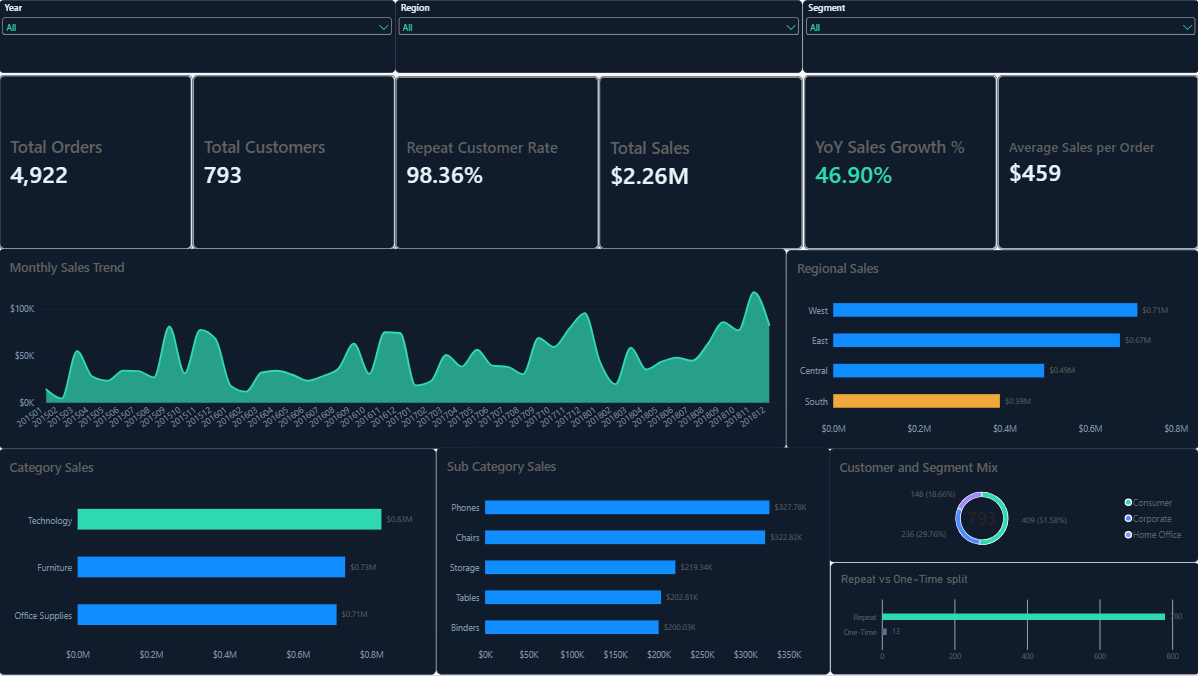

The dashboard page shown, as its layout file describes it:
{"tool":"powerbi","page":{"name":"Page 1","canvas":[1920,1080],"ordinal":0},"visuals":[{"type":"cardVisual","fields":{"Data":["Sales.Total Orders"]},"box":[0,119,309.5,279.2],"z":0},{"type":"cardVisual","fields":{"Data":["Sales.Total Customers"]},"box":[309.5,119,324.6,279.2],"z":1},{"type":"cardVisual","fields":{"Data":["Sales.Average Sales per Order"]},"box":[1597.1,119,322.5,279.2],"z":2},{"type":"cardVisual","fields":{"Data":["Sales.Repeat Customer Rate"]},"box":[634.1,121.2,326.8,277],"z":3},{"type":"cardVisual","fields":{"Data":["Sales.Total Sales"]},"box":[960.9,121.2,326.8,277],"z":4},{"type":"cardVisual","fields":{"Data":["Sales.YoY Sales Growth %"]},"box":[1287.7,119,309.5,279.2],"z":5},{"type":"lineChart","title":"Monthly Sales Trend","fields":{"Category":["DateTable.YearMonth"],"Y":["Sales.Total Sales"]},"box":[0,398.2,1259.5,320.3],"z":7},{"type":"clusteredBarChart","title":"Regional Sales","fields":{"Category":["Sales.Region"],"Y":["Sales.Total Sales"]},"box":[1259.5,400.4,660.1,318.1],"z":8},{"type":"slicer","title":"Year","fields":{"Values":["DateTable.Year"]},"box":[0,0,634.1,116.9],"z":9},{"type":"clusteredBarChart","title":"Category Sales","fields":{"Category":["Sales.Category"],"Y":["Sales.Total Sales"]},"box":[0,718.5,699,361.4],"z":10},{"type":"clusteredBarChart","title":"Sub Category Sales","fields":{"Category":["Sales.Sub-Category"],"Y":["Sales.Total Sales"]},"box":[699,716.3,629.8,363.6],"z":11},{"type":"donutChart","title":"Customer and Segment Mix","fields":{"Category":["Sales.Segment"],"Y":["Sales.Total Customers prev"]},"box":[1328.8,718.5,590.8,181.8],"z":12},{"type":"barChart","title":"Repeat vs One-Time split","fields":{"Category":["Sales.Customer Type"],"Y":["Count(Sales.Customer ID)"]},"box":[1329.2,900,590.8,180],"z":13},{"type":"slicer","title":"Year","fields":{"Values":["Sales.Region"]},"box":[634.1,0,651.4,116.9],"z":14},{"type":"slicer","title":"Year","fields":{"Values":["Sales.Segment"]},"box":[1285.5,0,634.1,116.9],"z":15}]}

Visuals, with their boxes in screenshot pixels (x1, y1, x2, y2), scaled from the page's 1920x1080 canvas onto the 1198x676 screenshot:
cardVisual - Sales.Total Orders: crop(0, 74, 193, 249)
cardVisual - Sales.Total Customers: crop(193, 74, 396, 249)
cardVisual - Sales.Average Sales per Order: crop(997, 74, 1197, 249)
cardVisual - Sales.Repeat Customer Rate: crop(396, 76, 600, 249)
cardVisual - Sales.Total Sales: crop(600, 76, 803, 249)
cardVisual - Sales.YoY Sales Growth %: crop(803, 74, 997, 249)
"Monthly Sales Trend" lineChart: crop(0, 249, 786, 450)
"Regional Sales" clusteredBarChart: crop(786, 251, 1197, 450)
"Year" slicer: crop(0, 0, 396, 73)
"Category Sales" clusteredBarChart: crop(0, 450, 436, 675)
"Sub Category Sales" clusteredBarChart: crop(436, 448, 829, 675)
"Customer and Segment Mix" donutChart: crop(829, 450, 1197, 564)
"Repeat vs One-Time split" barChart: crop(829, 563, 1197, 675)
"Year" slicer: crop(396, 0, 802, 73)
"Year" slicer: crop(802, 0, 1197, 73)
